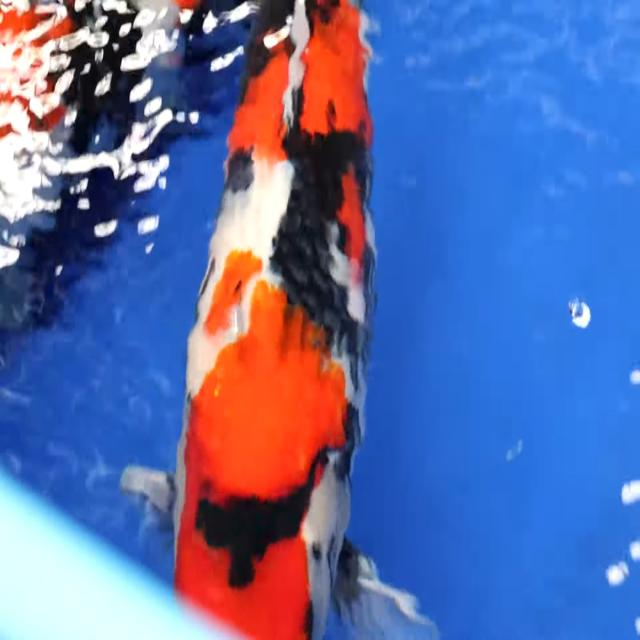Showa: (121, 0, 452, 640)
